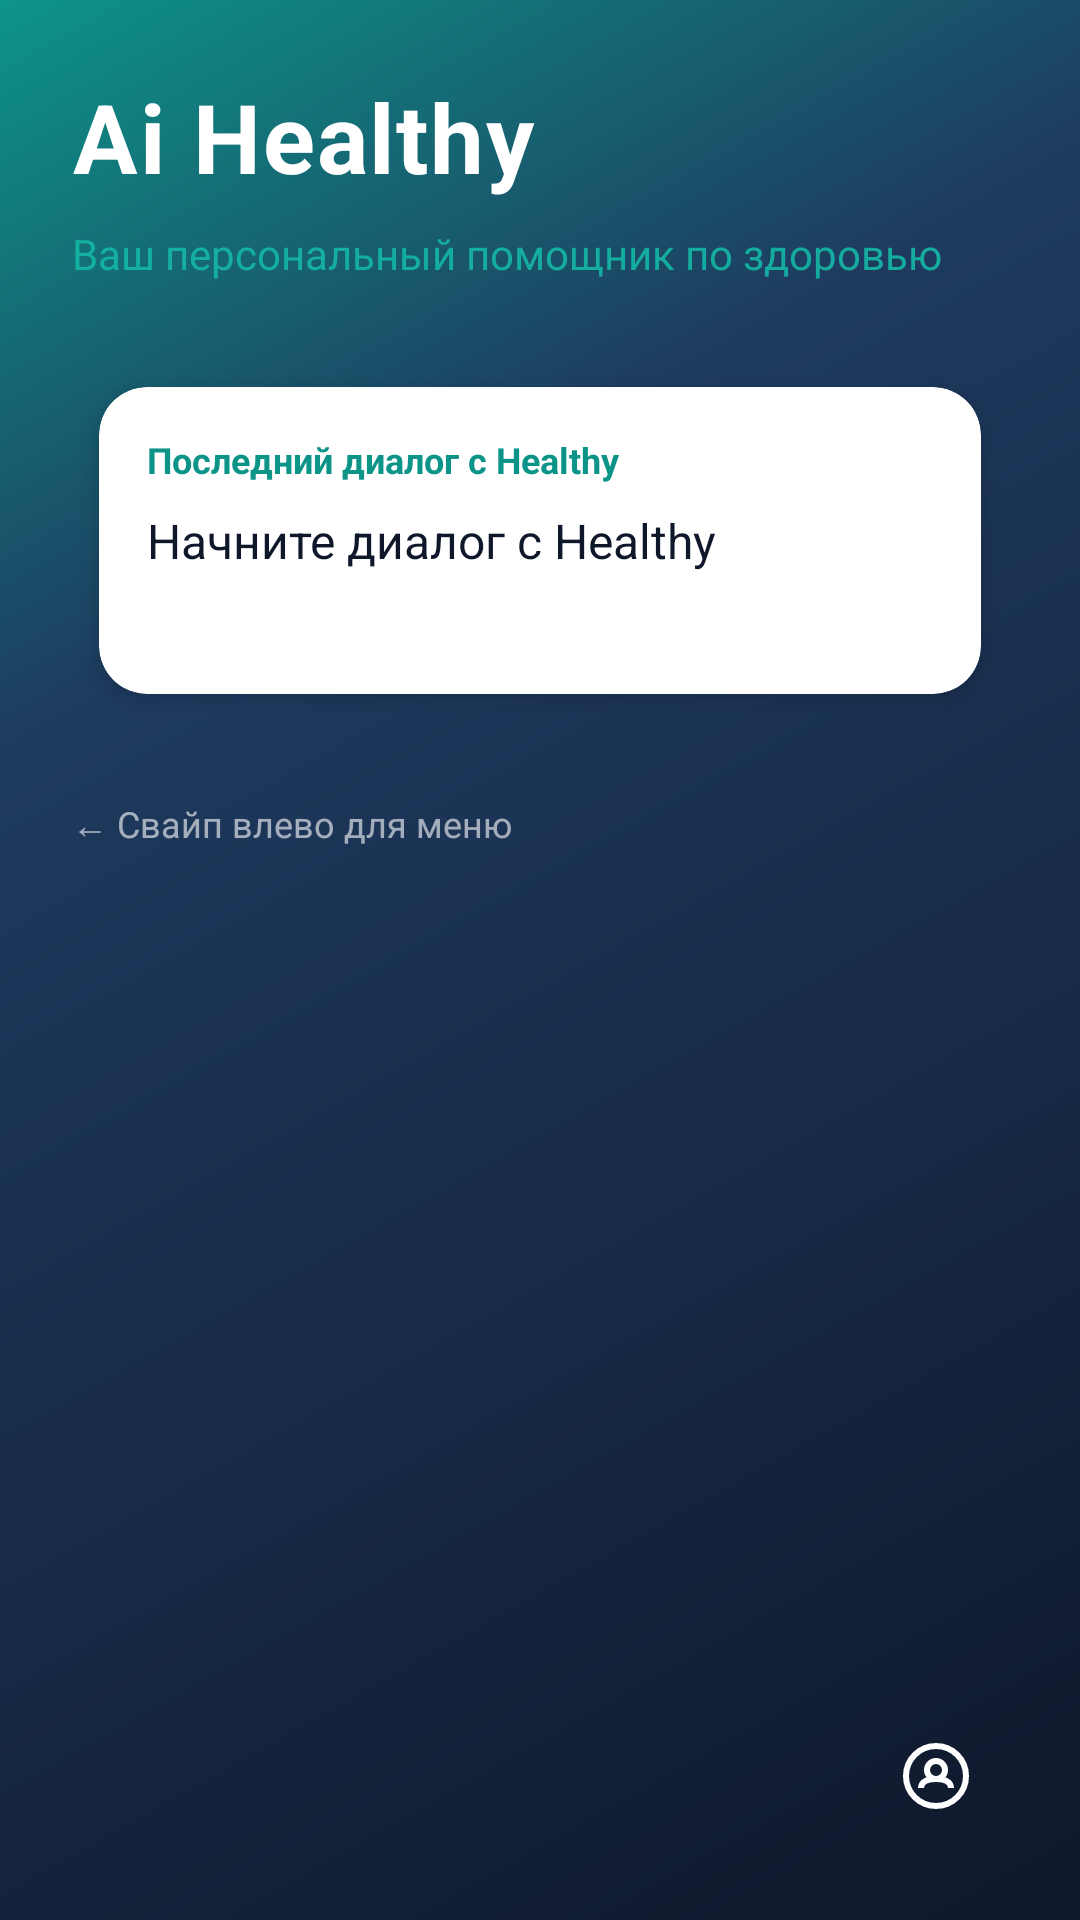

Named icons in this screenshot (1080 × 1920) and their centers, (x,y):
Аккаунт: (936,1776)
